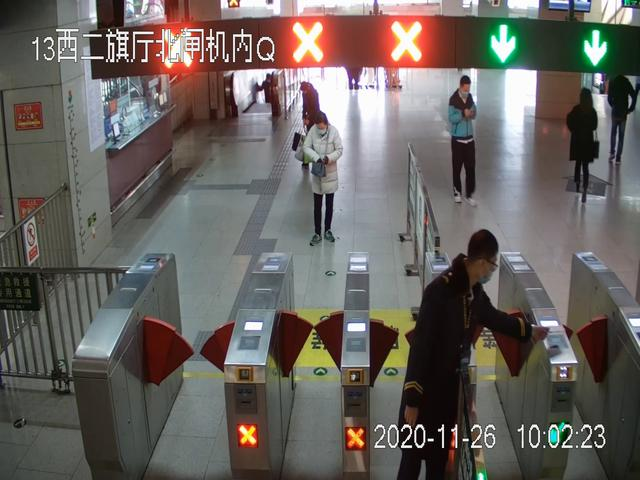person: (397, 230, 532, 480), (303, 112, 345, 246), (449, 73, 480, 208), (567, 87, 599, 206), (608, 73, 640, 164), (297, 78, 322, 167)
